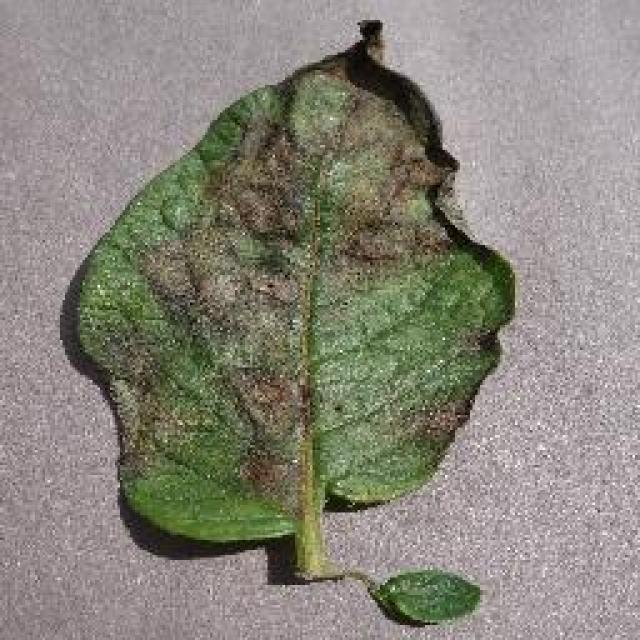late_blight: (60, 17, 520, 555)
